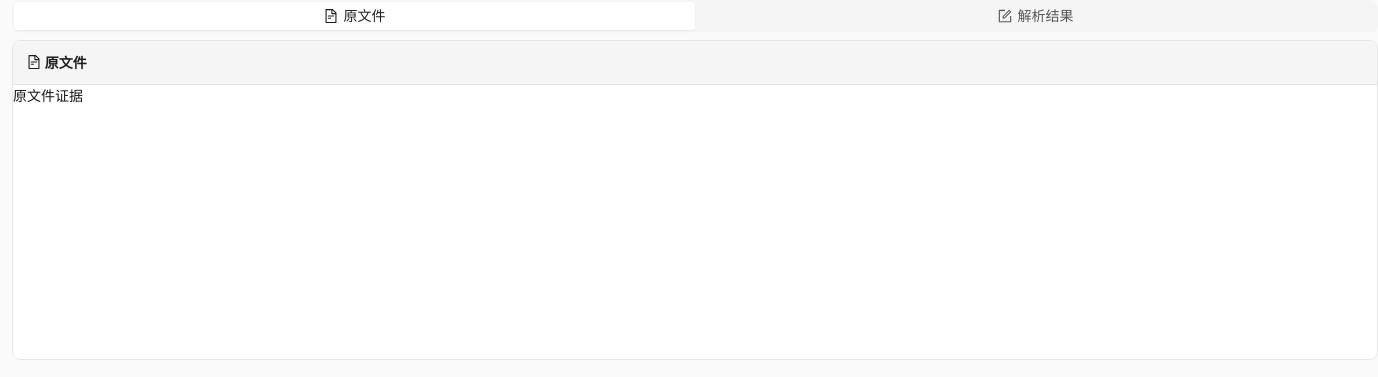
it: DocumentComparisonViewer › starts with the original on narrow screens when the result is unavailable, and allows switching
Expected: the text "原文件证据" is shown, 13,86 -> 83,105
Expected: the text "等待处理" is not shown
Click the radio button labelled "解析结果" at [1036, 16], box 998,7 -> 1074,24
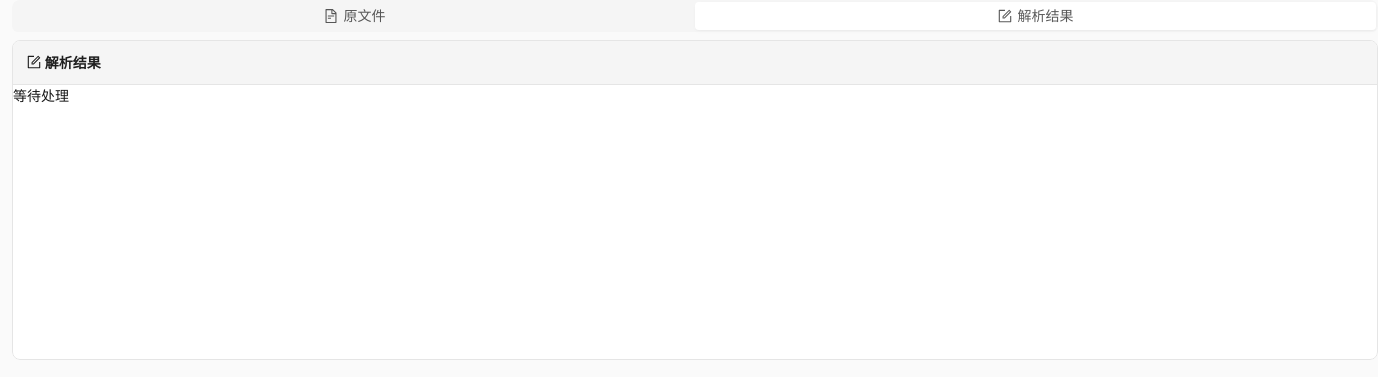
Expected: the text "等待处理" is shown, 13,86 -> 69,105
